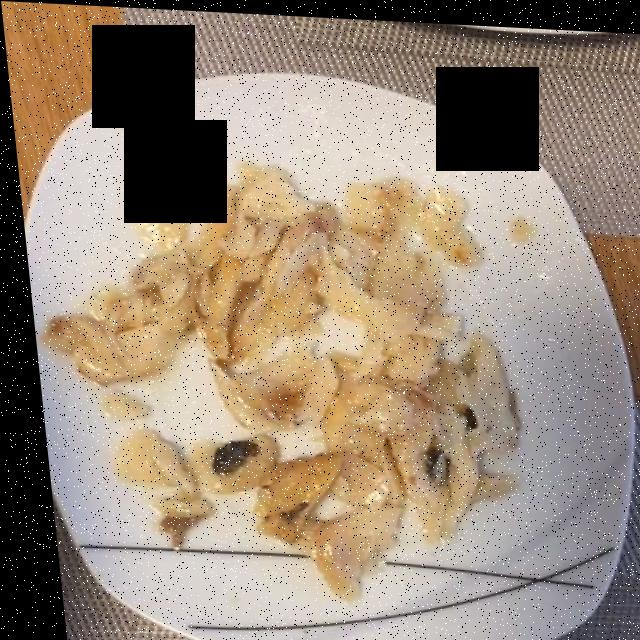fish: (52, 136, 518, 602), (51, 170, 498, 580)
